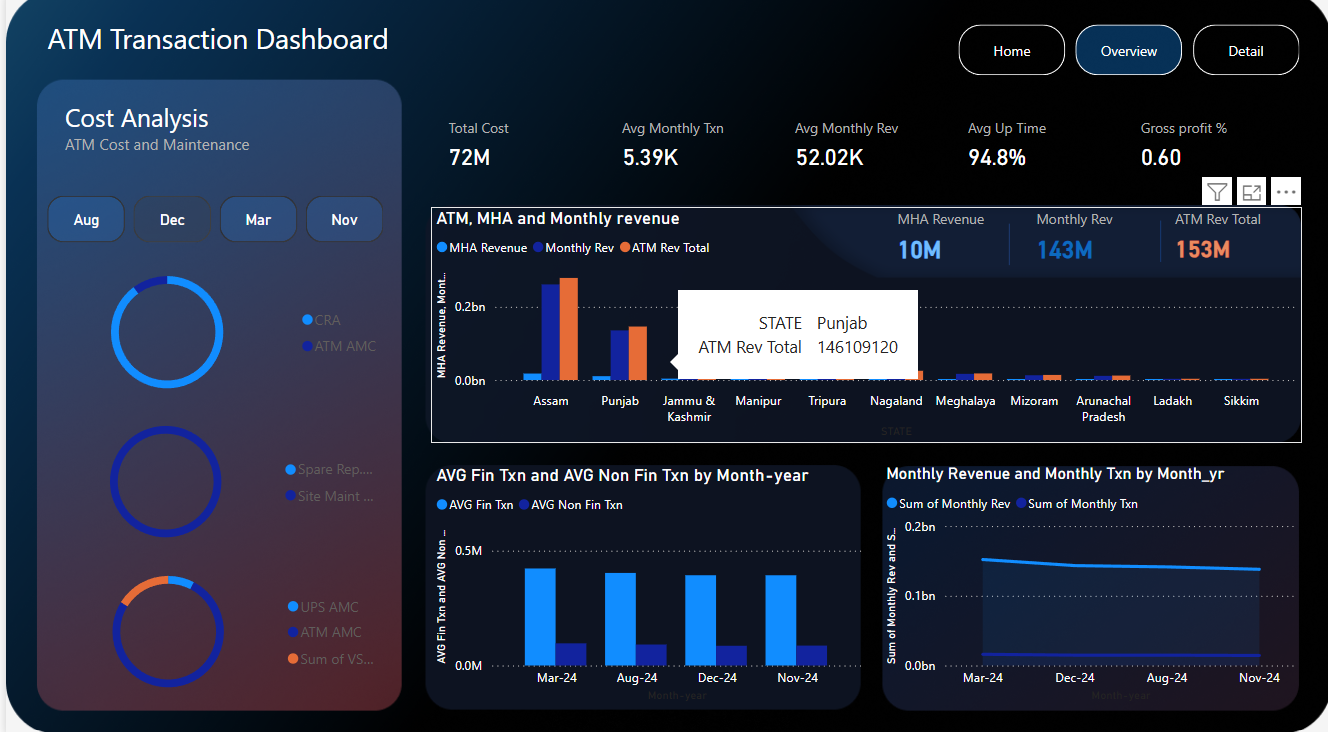

The page's visual inventory and layout, read from the dashboard file:
{"tool":"powerbi","page":{"name":"Overview","canvas":[1280,720],"ordinal":1},"visuals":[{"type":"donutChart","fields":{"Y":["Sum(Dataset.CRA)","Sum(Dataset.ATM AMC)"]},"box":[22.2,255.6,350,145.6],"z":0},{"type":"donutChart","fields":{"Y":["Sum(Dataset.Spare Rep.(UPS))","Sum(Dataset.Site Maint (Non Asset))"]},"box":[35.6,401.1,336.7,144.4],"z":1000},{"type":"donutChart","fields":{"Y":["Sum(Dataset.UPS AMC)","Sum(Dataset.ATM AMC)","Sum(Dataset.VSAT AMC)"]},"box":[37.8,545.6,336.7,144.4],"z":2000},{"type":"clusteredColumnChart","title":"ATM, MHA and Monthly revenue","fields":{"Y":["Sum(Dataset.MHA Revenue)","Sum(Dataset.Monthly Rev)","Sum(Dataset.ATM Rev Total)"],"Category":["Dataset.STATE"]},"box":[410,207,841,228],"z":3000},{"type":"clusteredColumnChart","fields":{"Y":["Sum(Dataset.AVG Fin Txn)","Sum(Dataset.AVG Non Fin Txn)"],"Category":["Dataset.Month-year"]},"box":[410,456,421,234],"z":4000},{"type":"lineChart","title":"Monthly Revenue and Monthly Txn by Month_yr","fields":{"Category":["Dataset.Month-year"],"Y":["Sum(Dataset.Monthly Rev)","Sum(Dataset.Monthly Txn)"]},"box":[845,456,406,234],"z":5000},{"type":"advancedSlicerVisual","fields":{"Values":["Dataset.Short_month"]},"box":[35.6,192.2,337.8,55.6],"z":6000},{"type":"textbox","box":[51.9,100.1,319.7,77.2],"z":7000},{"type":"cardVisual","fields":{"Data":["Sum(Dataset. Total Cost  )","Avg(Dataset.Monthly Txn)","Avg(Dataset.Monthly Rev)","Avg(Dataset.Up Time)","Dataset.Gross profit percentage"]},"box":[410,100,841.2,92.5],"z":8000},{"type":"cardVisual","title":"Title","fields":{"Data":["Sum(Dataset.MHA Revenue)","Sum(Dataset.Monthly Rev)","Sum(Dataset.ATM Rev Total)"]},"box":[843.8,192.5,406.2,70],"z":9000},{"type":"pageNavigator","box":[919.3,31.4,331.8,49.5],"z":10000},{"type":"textbox","box":[35,21.2,463.8,60],"z":11000}]}

Visuals, with their boxes in screenshot pixels (x1, y1, x2, y2), scaled from the page's 1280x720 canvas onto the 1328x732 screenshot:
donutChart - Sum(Dataset.CRA) x Sum(Dataset.ATM AMC): Rect(23, 260, 386, 408)
donutChart - Sum(Dataset.Spare Rep.(UPS)) x Sum(Dataset.Site Maint (Non Asset)): Rect(37, 408, 386, 555)
donutChart - Sum(Dataset.UPS AMC) x Sum(Dataset.ATM AMC): Rect(39, 555, 389, 702)
"ATM, MHA and Monthly revenue" clusteredColumnChart: Rect(425, 210, 1298, 442)
clusteredColumnChart - Sum(Dataset.AVG Fin Txn) x Sum(Dataset.AVG Non Fin Txn): Rect(425, 464, 862, 702)
"Monthly Revenue and Monthly Txn by Month_yr" lineChart: Rect(877, 464, 1298, 702)
advancedSlicerVisual - Dataset.Short_month: Rect(37, 195, 387, 252)
textbox: Rect(54, 102, 386, 180)
cardVisual - Sum(Dataset. Total Cost  ) x Avg(Dataset.Monthly Txn): Rect(425, 102, 1298, 196)
"Title" cardVisual: Rect(875, 196, 1297, 267)
pageNavigator: Rect(954, 32, 1298, 82)
textbox: Rect(36, 22, 518, 83)
